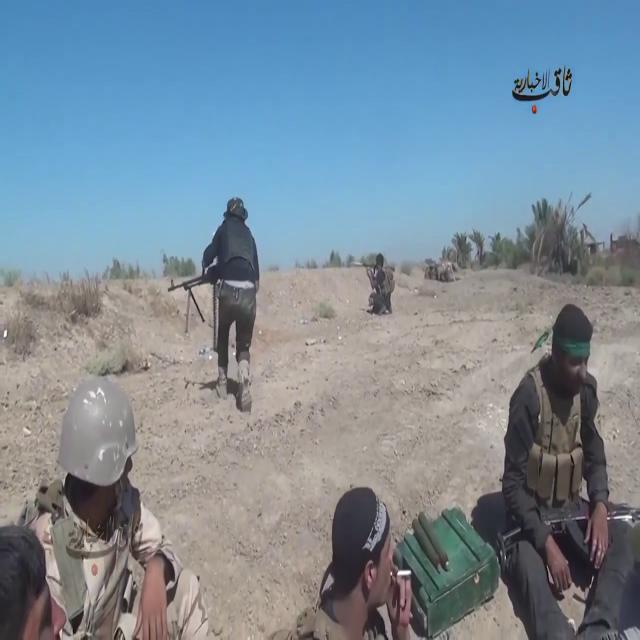long weapon: (493, 492, 639, 590), (165, 258, 221, 338)
